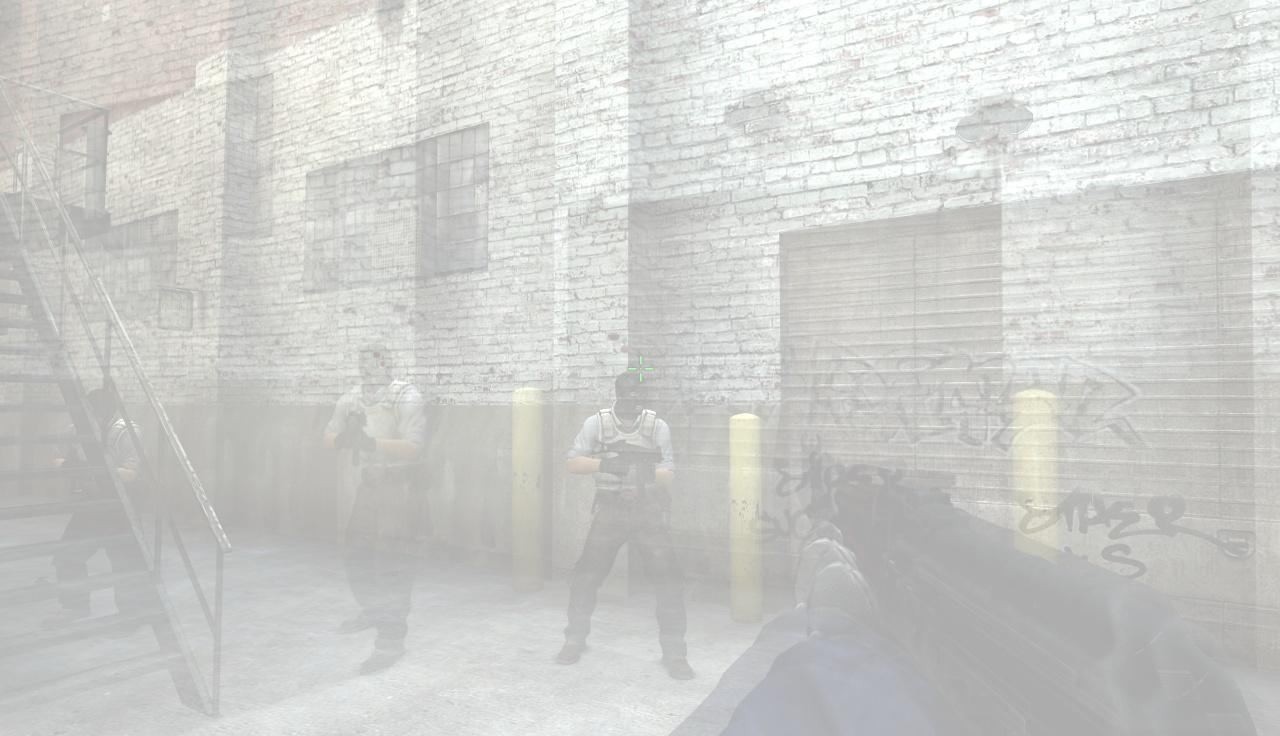rifle: (780, 446, 1280, 736)
tt: (564, 372, 679, 675), (336, 342, 430, 673), (60, 386, 141, 631)
tthead: (357, 343, 394, 394), (613, 372, 649, 419), (83, 386, 118, 426)
